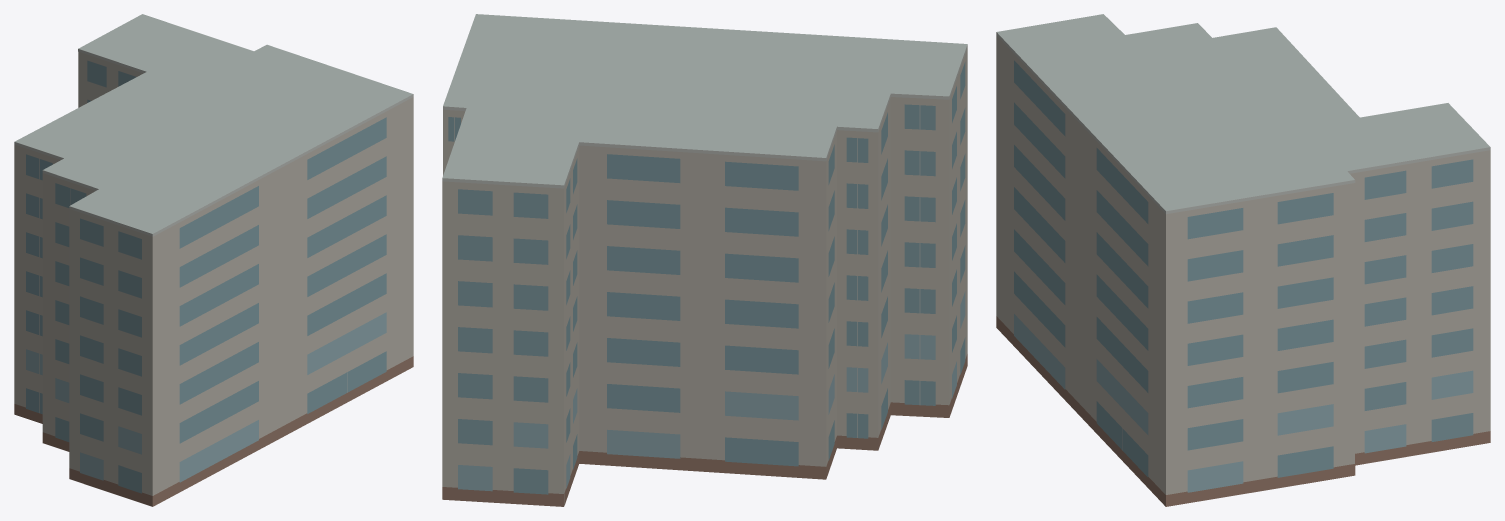
Rendered from survey-upis-32890637.glb.
3 views of the same model, side by side, from view 1: azimuth 30°, elevation 25°; view 2: azimuth 150°, elevation 25°; view 3: azimuth 270°, elevation 25° (orthographic). The views are drawn at different scales.
Visible parts, largest first — view 1: survey-upis-32890637.tmp; view 2: survey-upis-32890637.tmp; view 3: survey-upis-32890637.tmp.
Boxes of the visible parts, bbox=[...] form: survey-upis-32890637.tmp: bbox=[14, 14, 413, 506]; survey-upis-32890637.tmp: bbox=[442, 14, 967, 506]; survey-upis-32890637.tmp: bbox=[996, 14, 1490, 506].
Bounding box in the file's own units: 33.91 × 23.7 × 35.91.
